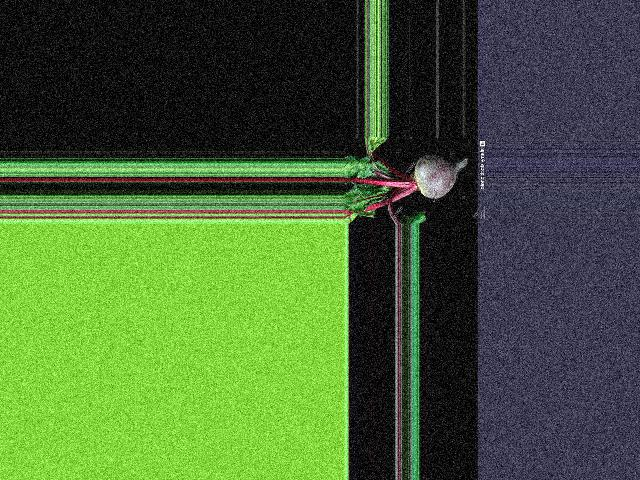beet: (344, 137, 468, 224)
